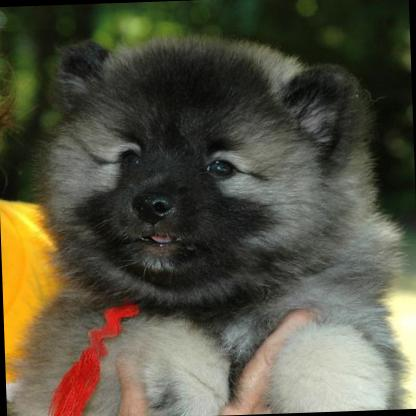keeshond: (0, 23, 410, 416)
